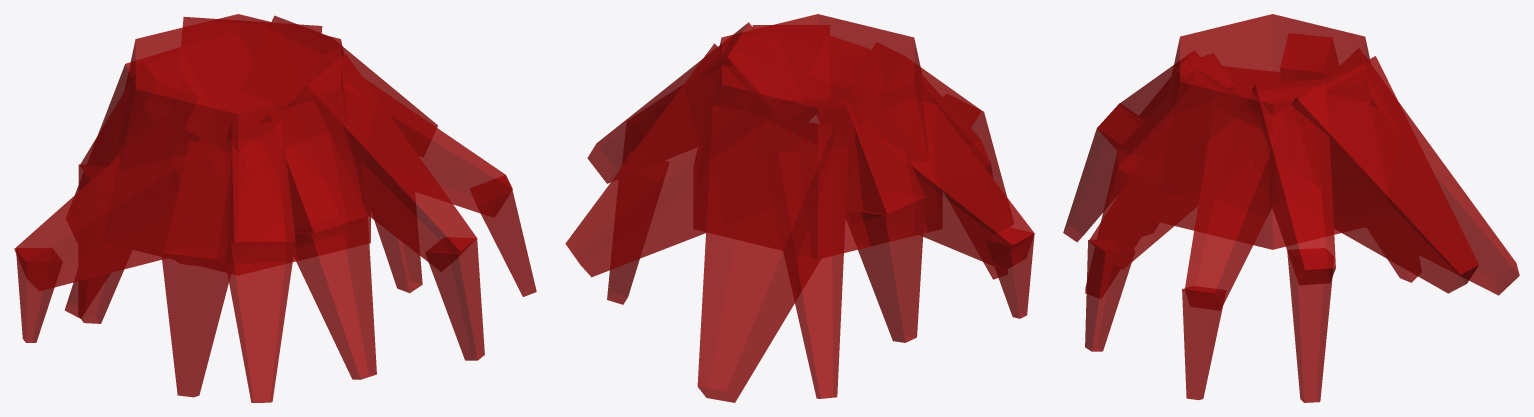
The model's file is SM_Prop_Stump_02_Collision.fbx.
3 renders of one model, left to right at view 1: azimuth 30°, elevation 25°; view 2: azimuth 150°, elevation 25°; view 3: azimuth 270°, elevation 25°, orthographic. The views are drawn at different scales.
Visible parts, largest first — view 1: SM_Prop_Stump_02_Collision; view 2: SM_Prop_Stump_02_Collision; view 3: SM_Prop_Stump_02_Collision.
Boxes of the visible parts, x1,y1,x2,y2 form: SM_Prop_Stump_02_Collision: (14,14,536,402); SM_Prop_Stump_02_Collision: (565,14,1034,402); SM_Prop_Stump_02_Collision: (1063,14,1519,402).
Bounding box in the file's own units: 296 × 178 × 272.
